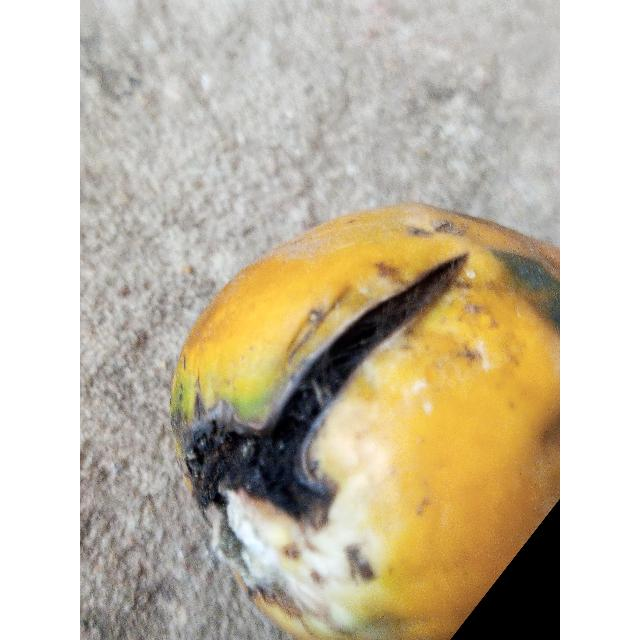damaged: (169, 203, 560, 640)
